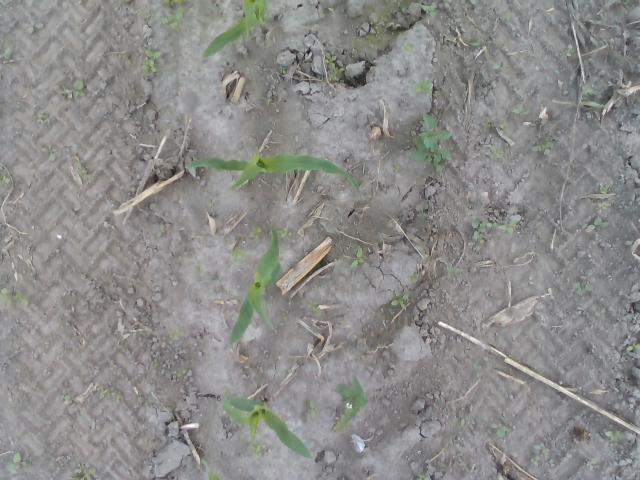Maize: (192, 152, 362, 194), (230, 224, 284, 349), (223, 394, 312, 460), (200, 0, 268, 59)
Weeds: (409, 110, 456, 174), (332, 376, 369, 436), (468, 218, 518, 245), (158, 0, 189, 34), (322, 51, 346, 83), (0, 286, 33, 308), (138, 47, 160, 78), (60, 78, 88, 101), (530, 135, 560, 155), (6, 451, 32, 474), (66, 463, 100, 480), (228, 246, 255, 266), (583, 216, 610, 236), (200, 457, 223, 480), (97, 385, 125, 402), (528, 442, 546, 468), (389, 290, 410, 312), (70, 154, 89, 178), (573, 280, 594, 299), (418, 0, 439, 18), (39, 142, 58, 160), (351, 247, 366, 269), (0, 164, 11, 194), (414, 78, 434, 94), (494, 424, 514, 439), (246, 224, 264, 240), (488, 144, 504, 162), (153, 222, 167, 242), (0, 44, 15, 62), (399, 41, 417, 54), (592, 182, 610, 195), (511, 102, 527, 116), (408, 270, 421, 287), (451, 417, 466, 431), (166, 327, 185, 338), (624, 341, 640, 354), (304, 299, 320, 312), (446, 264, 466, 274), (306, 400, 318, 416), (580, 85, 594, 98), (277, 226, 290, 240), (606, 431, 624, 441), (34, 114, 50, 125), (623, 0, 634, 16), (592, 202, 608, 212), (254, 445, 266, 458), (564, 44, 575, 58), (470, 38, 483, 49), (261, 95, 274, 106), (176, 366, 187, 378), (280, 306, 289, 320), (414, 471, 428, 480), (483, 119, 494, 130), (62, 391, 74, 401), (392, 162, 401, 174), (152, 358, 160, 370), (208, 199, 218, 208), (442, 0, 452, 8), (472, 360, 482, 368), (469, 0, 481, 6), (278, 68, 288, 74)
